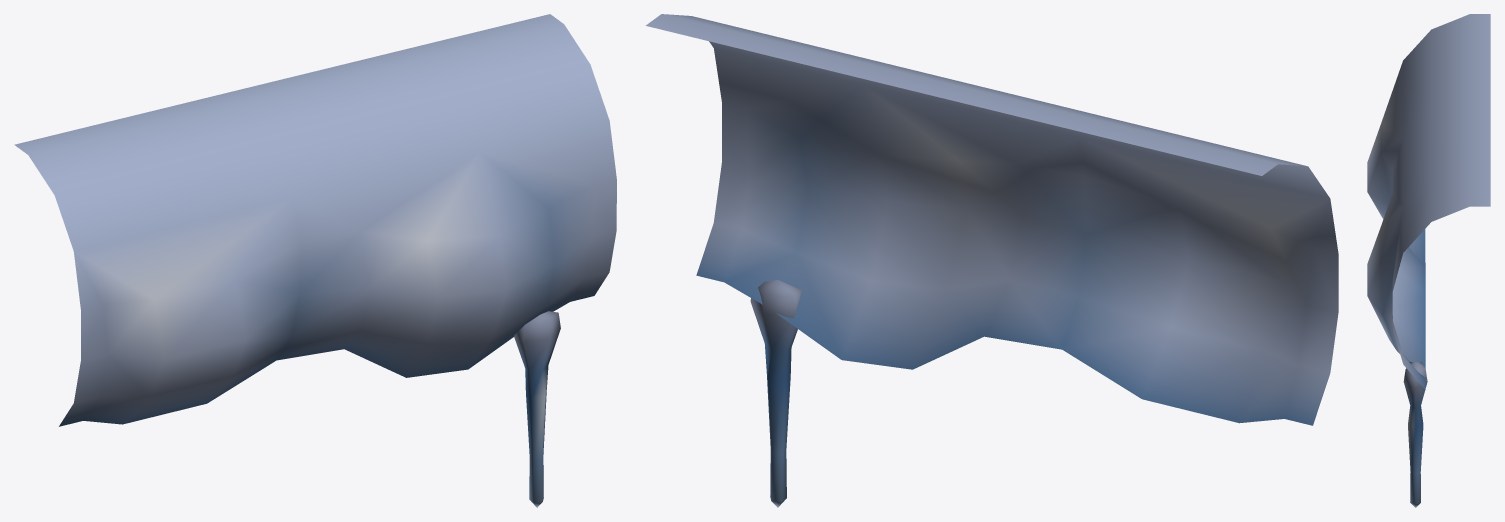
Rendered from Surface_FrontUp02.fbx.
3 renders of one model, left to right at view 1: azimuth 30°, elevation 25°; view 2: azimuth 150°, elevation 25°; view 3: azimuth 270°, elevation 25°, orthographic. The views are drawn at different scales.
Parts seen in each view (by area): view 1: Surface_FrontUp02; view 2: Surface_FrontUp02; view 3: Surface_FrontUp02.
Part boxes in pixels (left/top/right/bottom): Surface_FrontUp02: left=14, top=14, right=616, bottom=507; Surface_FrontUp02: left=645, top=14, right=1338, bottom=507; Surface_FrontUp02: left=1367, top=14, right=1490, bottom=507.
Bounding box in the file's own units: 2000 × 1572 × 543.
